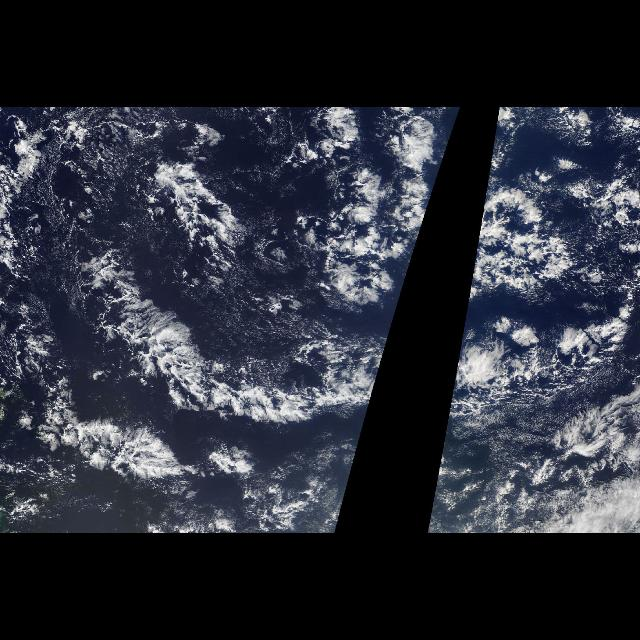Fish: (26, 123, 458, 495), (432, 123, 634, 495)
Gravel: (308, 164, 442, 316), (454, 342, 616, 413)
Sugar: (40, 108, 154, 238), (441, 406, 551, 509)
